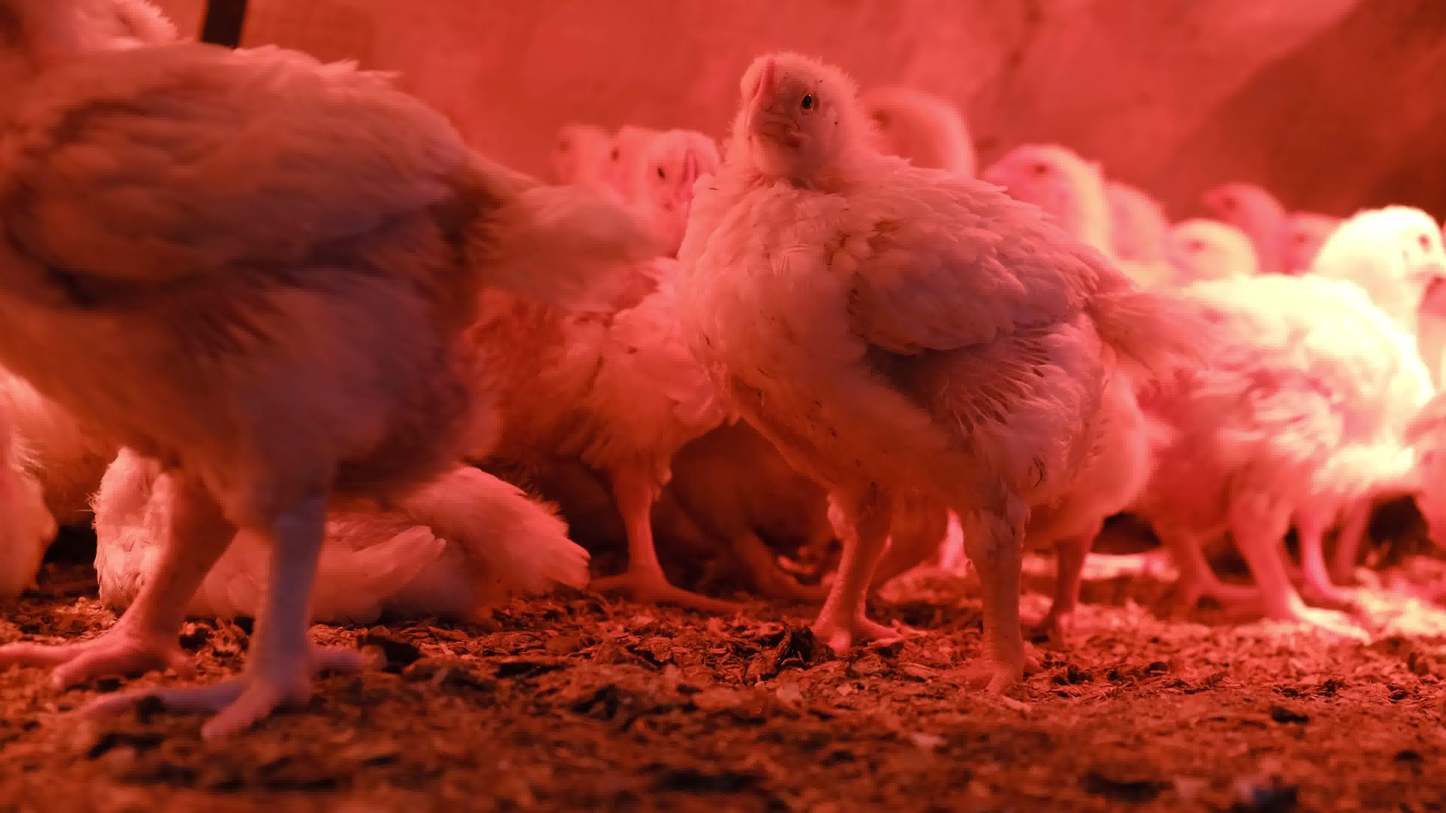AbNormal: (91, 410, 595, 623)
Normal: (4, 0, 662, 742), (671, 47, 1234, 717), (1093, 202, 1446, 649), (1119, 204, 1446, 643), (468, 121, 729, 610), (989, 136, 1112, 306), (1084, 174, 1177, 322), (861, 79, 977, 197), (594, 113, 667, 258), (1200, 181, 1292, 295), (1185, 219, 1251, 313), (531, 121, 606, 202)
